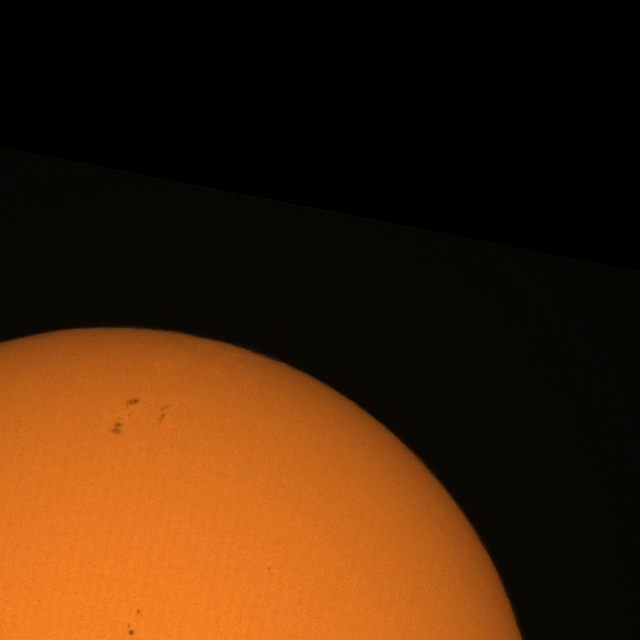sunspot: (110, 420, 125, 437), (125, 398, 140, 414), (158, 403, 171, 420), (127, 623, 135, 638), (136, 608, 143, 616)
